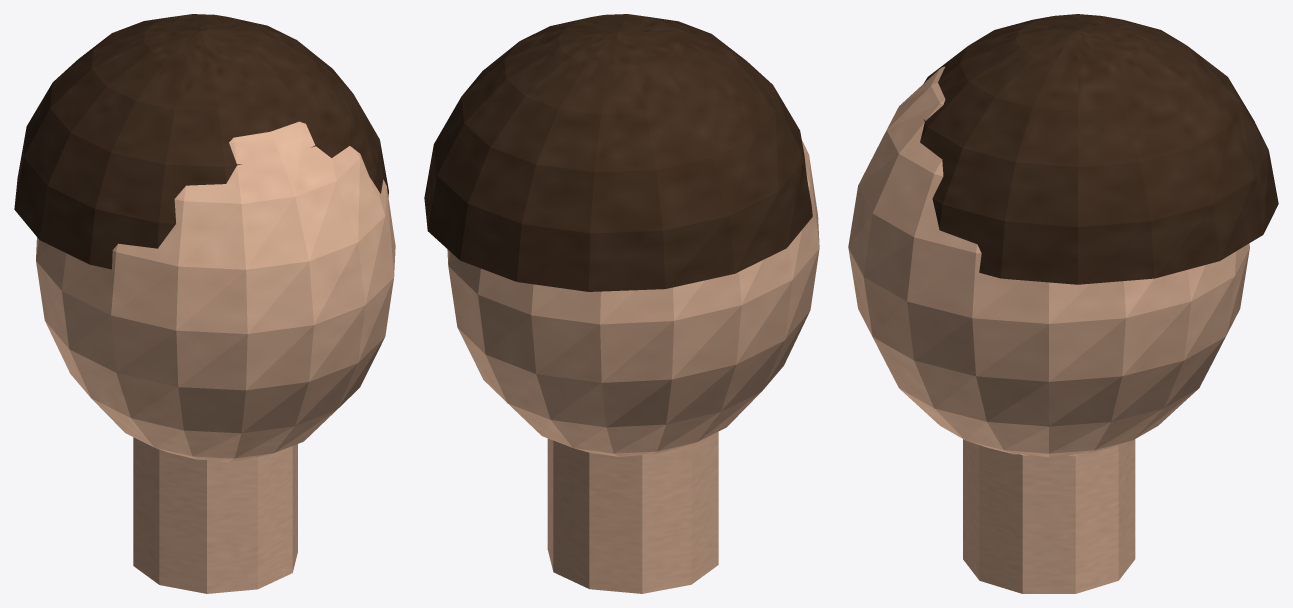
File: Juez_Cabeza.obj
3 views of the same model, side by side, from view 1: azimuth 30°, elevation 25°; view 2: azimuth 150°, elevation 25°; view 3: azimuth 270°, elevation 25° (orthographic). The views are drawn at different scales.
Size of the model in its own units: 0.2 by 0.305 by 0.225.
Materials: 1 (1 with a texture image).
